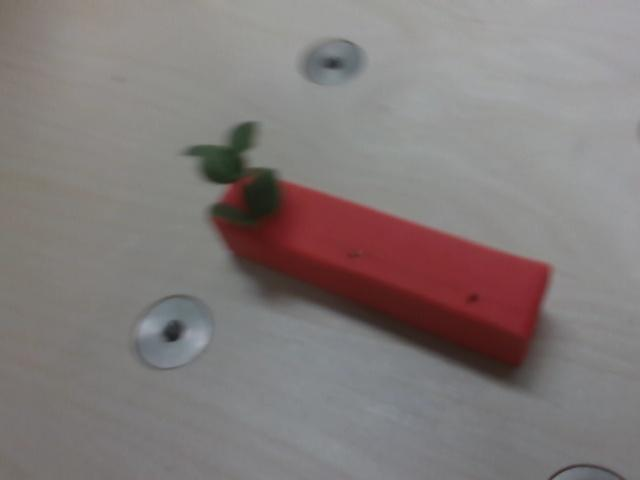leaf: (189, 121, 282, 228)
